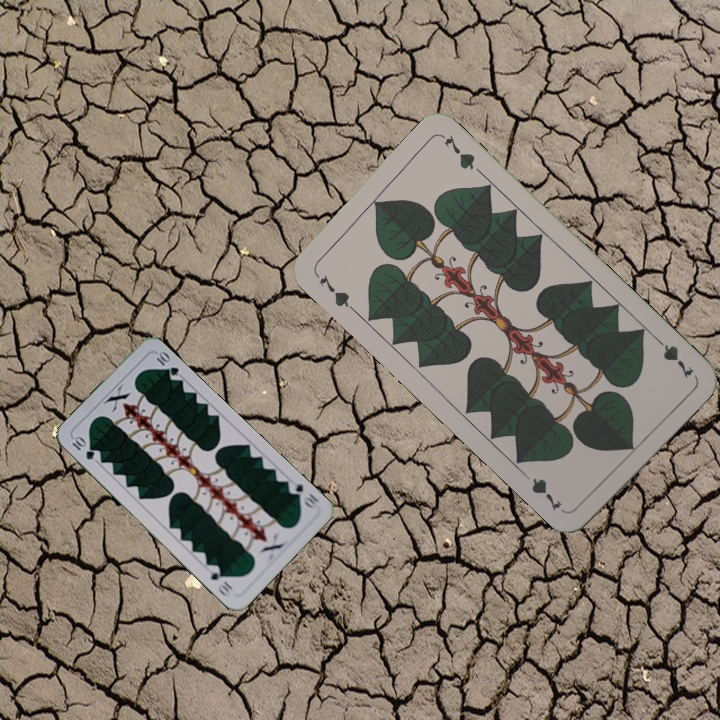G10: (284, 477, 321, 511), (68, 432, 97, 462)
G7: (650, 332, 697, 382), (315, 271, 357, 313)
